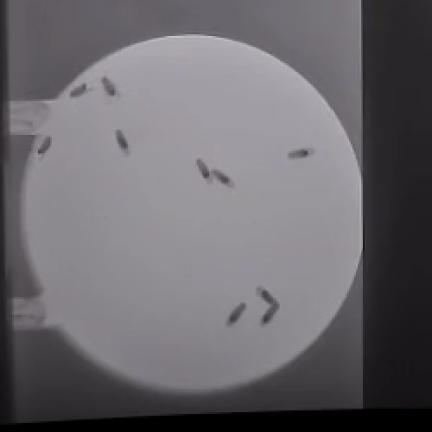fly: (227, 303, 247, 325), (211, 170, 235, 187), (261, 305, 279, 325), (258, 287, 278, 305), (101, 76, 117, 97), (197, 159, 210, 181), (116, 130, 129, 152), (70, 83, 89, 98), (289, 148, 312, 160), (39, 137, 51, 156)
